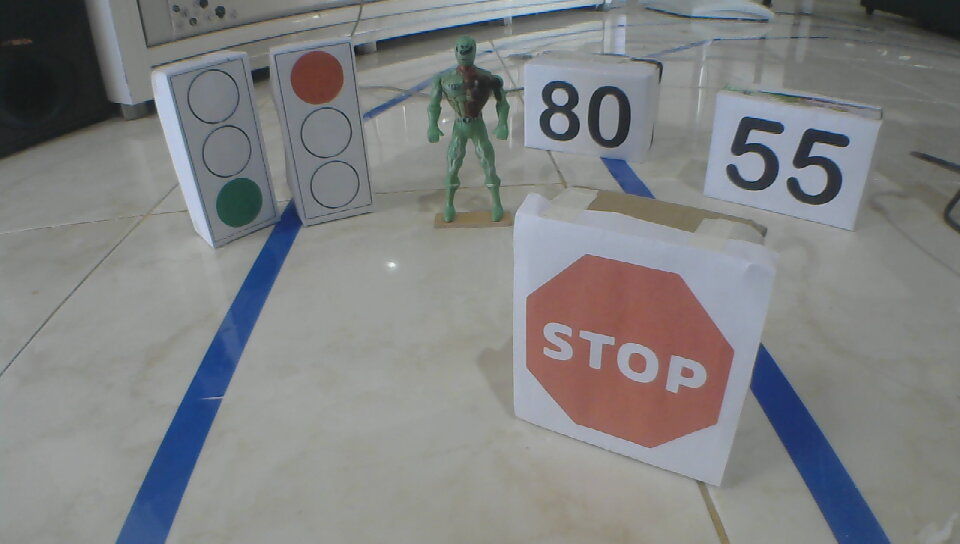Green Light: (185, 67, 265, 229)
Person: (424, 38, 512, 226)
Red Light: (289, 48, 361, 209)
Speed 55: (726, 115, 851, 206)
Speed 80: (537, 80, 633, 150)
Stop: (525, 252, 738, 451)
